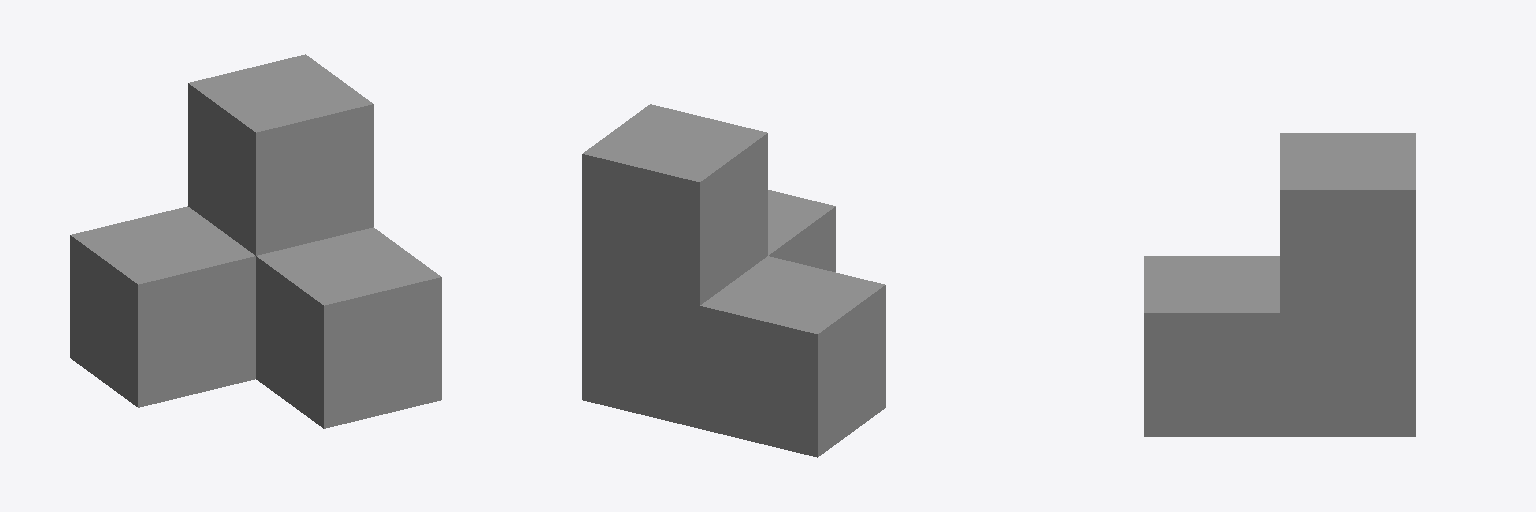
Rendered from tetris.obj.
The picture shows the model from 3 angles: view 1: azimuth 30°, elevation 25°; view 2: azimuth 150°, elevation 25°; view 3: azimuth 270°, elevation 25°; orthographic projection.
Parts seen in each view (by area): view 1: tetris; view 2: tetris; view 3: tetris.
Part boxes in pixels (bbox=[...]): tetris: bbox=[70, 54, 441, 428]; tetris: bbox=[582, 104, 885, 457]; tetris: bbox=[1144, 133, 1415, 436].
Size of the model in its own units: 1 by 1 by 1.